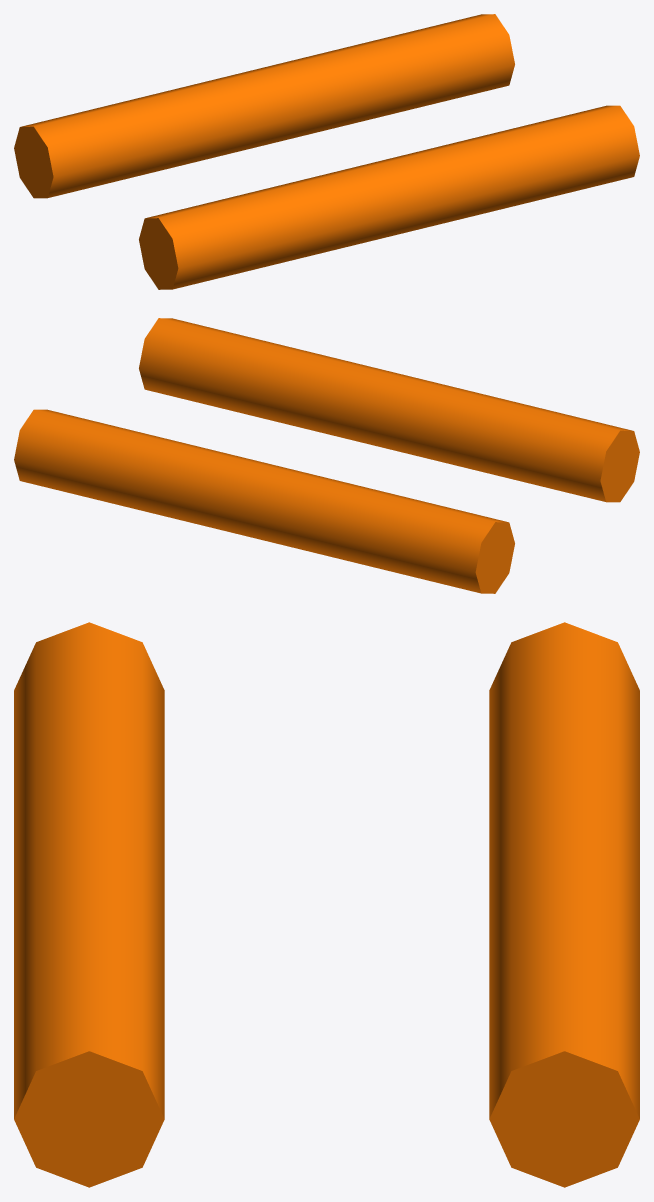
The model's file is SM_BandExtender.FBX.
The picture shows the model from 3 angles, top to bottom: view 1: azimuth 30°, elevation 25°; view 2: azimuth 150°, elevation 25°; view 3: azimuth 270°, elevation 25°; orthographic projection. The views are drawn at different scales.
Visible parts, largest first — view 1: SM_BandExtender; view 2: SM_BandExtender; view 3: SM_BandExtender.
Part boxes in pixels (box(x1,y1,x2,y2)): SM_BandExtender: box(14, 14, 639, 289); SM_BandExtender: box(14, 318, 639, 593); SM_BandExtender: box(14, 622, 639, 1187).
Size of the model in its own units: 100 by 61.69 by 14.85.
